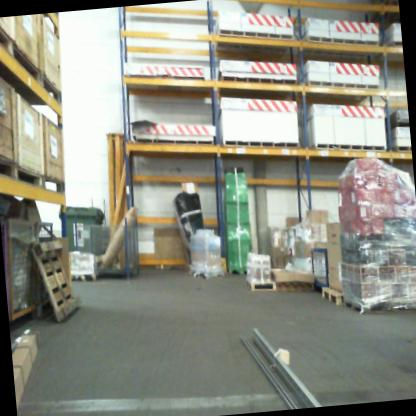pallet: (30, 237, 84, 326), (248, 271, 273, 294), (321, 285, 344, 307), (183, 263, 191, 274)
stillage: (64, 211, 148, 288), (5, 215, 44, 327), (28, 221, 61, 317), (0, 219, 14, 332), (310, 247, 331, 294)
